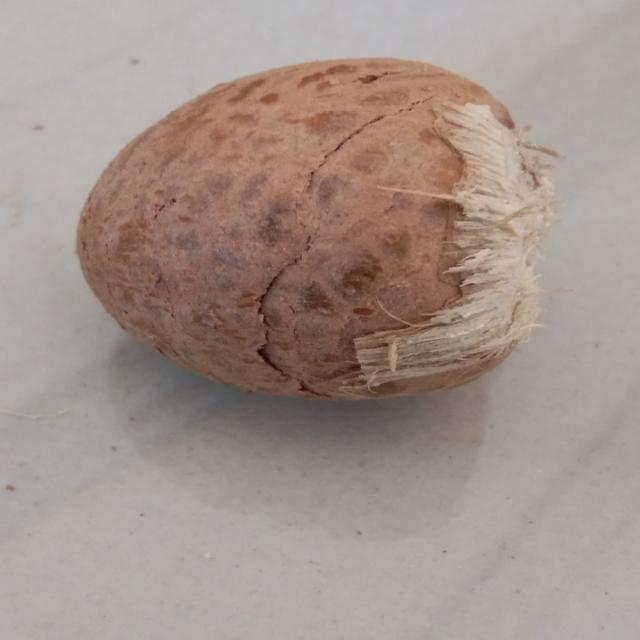phatora: (59, 59, 591, 390)
